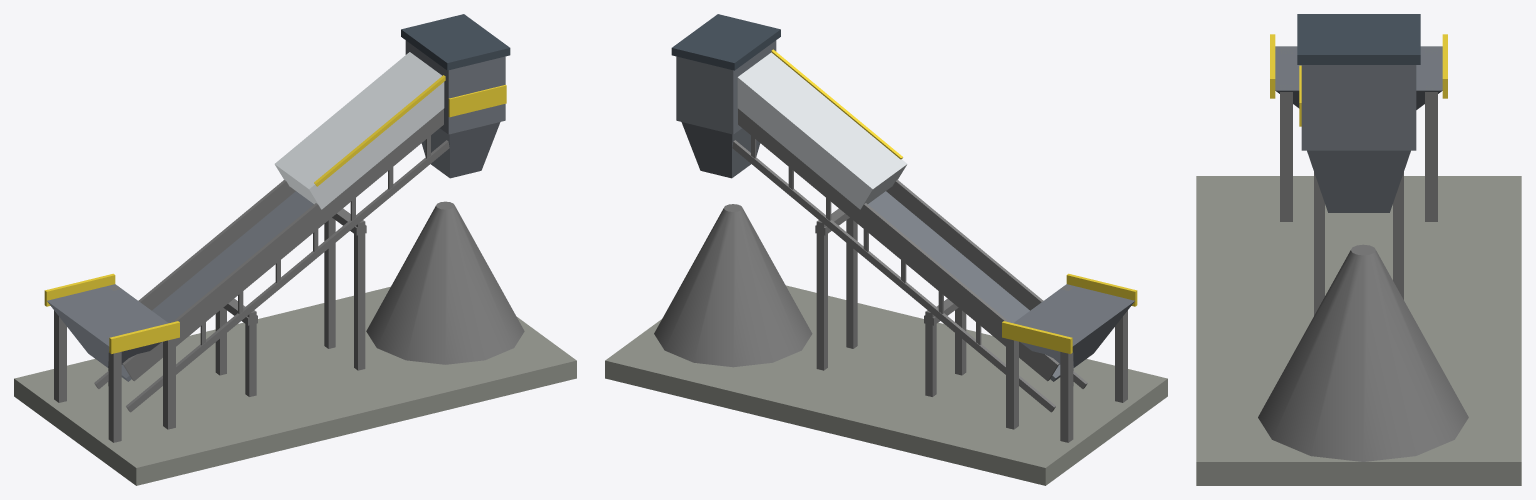
File: mashup-conveyor-mid-prebuilt.fbx
3 views of the same model, side by side, from view 1: azimuth 30°, elevation 25°; view 2: azimuth 150°, elevation 25°; view 3: azimuth 270°, elevation 25° (orthographic). The views are drawn at different scales.
Visible parts, largest first — view 1: a1025.Conveyor; view 2: a1025.Conveyor; view 3: a1025.Conveyor.
Part boxes in pixels (left/top/right/bottom): a1025.Conveyor: left=14, top=14, right=576, bottom=485; a1025.Conveyor: left=605, top=14, right=1167, bottom=485; a1025.Conveyor: left=1196, top=14, right=1521, bottom=485.
Bounding box in the file's own units: 15.4 × 10.35 × 7.4.
